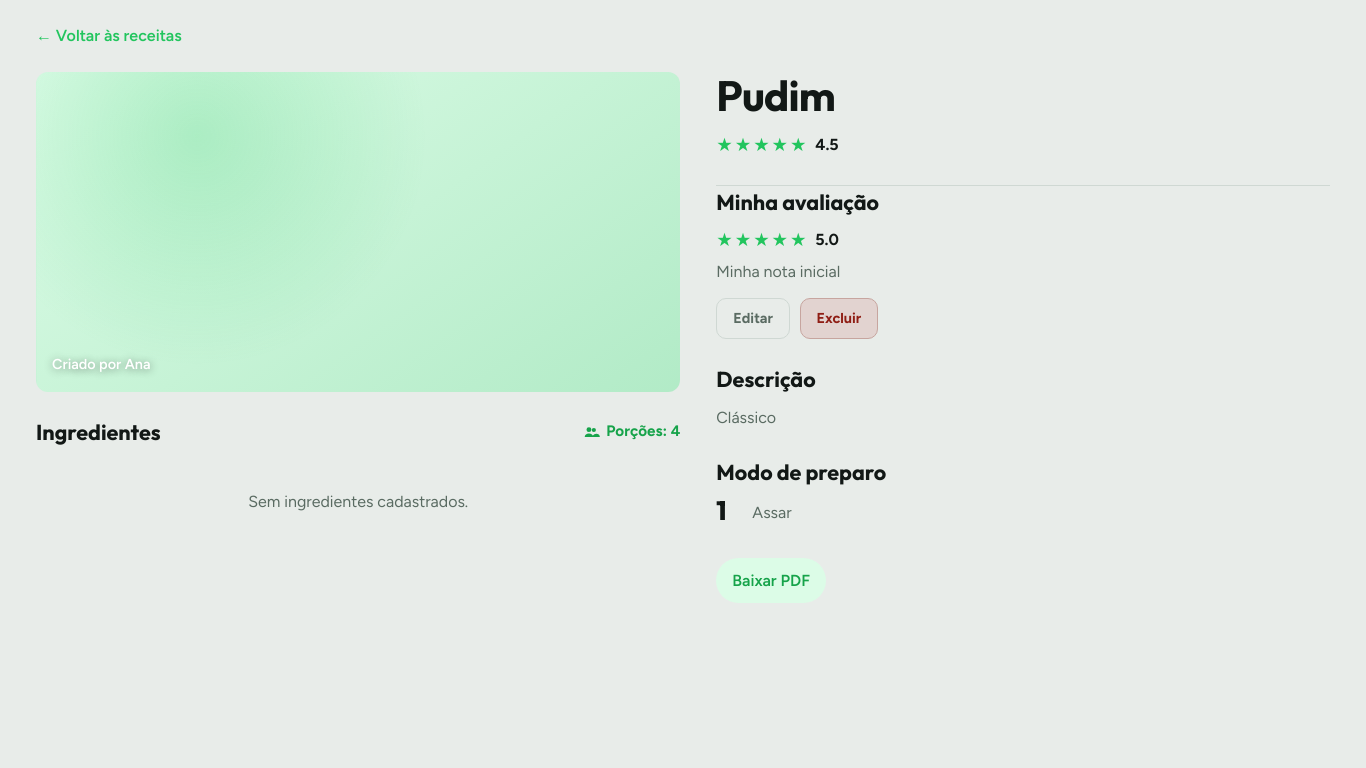
Test case: FN-UI-TASTER — avaliação no detalhe público › AC-03: TASTER edita a própria review via PUT (só rating/description)
Expected: the heading "Pudim" is shown, [716,69,835,122]
Expected: the heading "Minha avaliação" is shown, [716,188,879,216]
Click the button "Editar": (753, 318) [716,298,790,339]
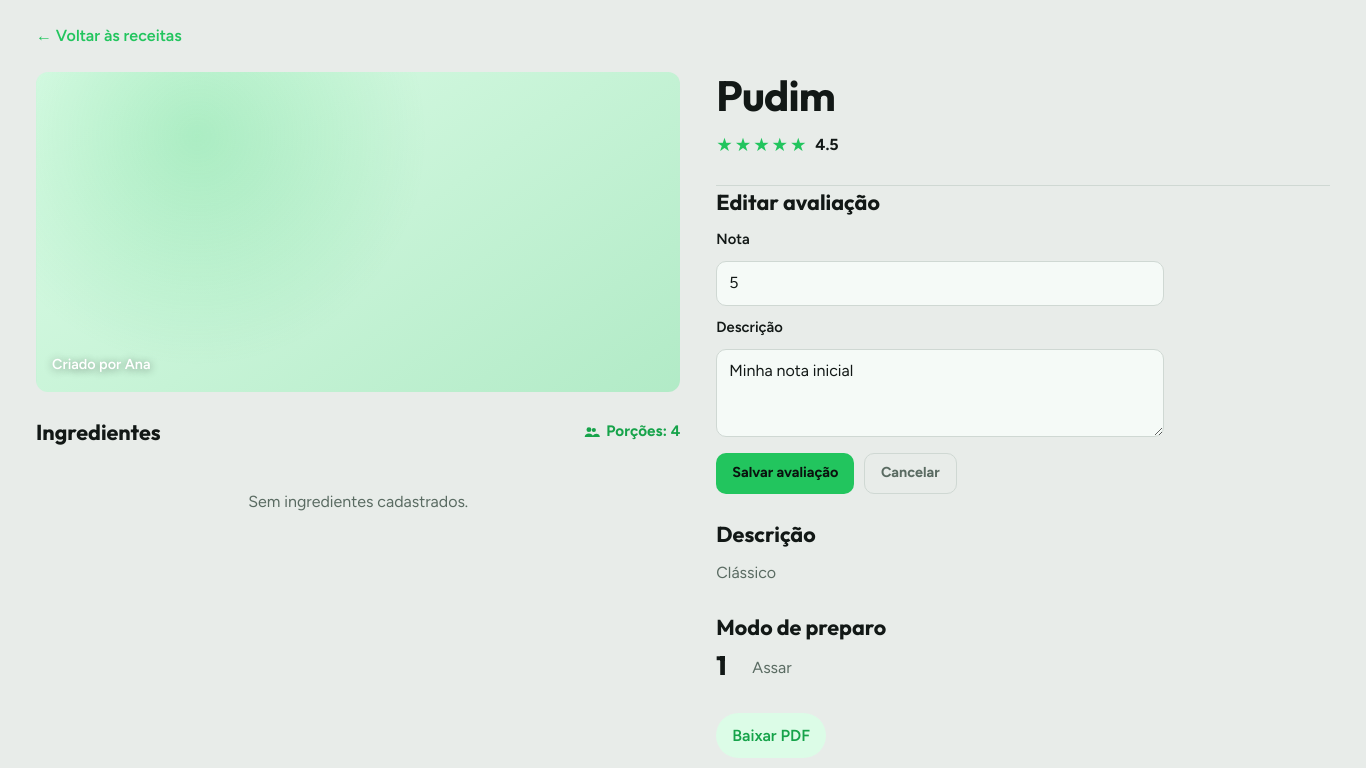
Replace the text in the number field labelled "Nota" with "3": (940, 283) [716,261,1164,306]
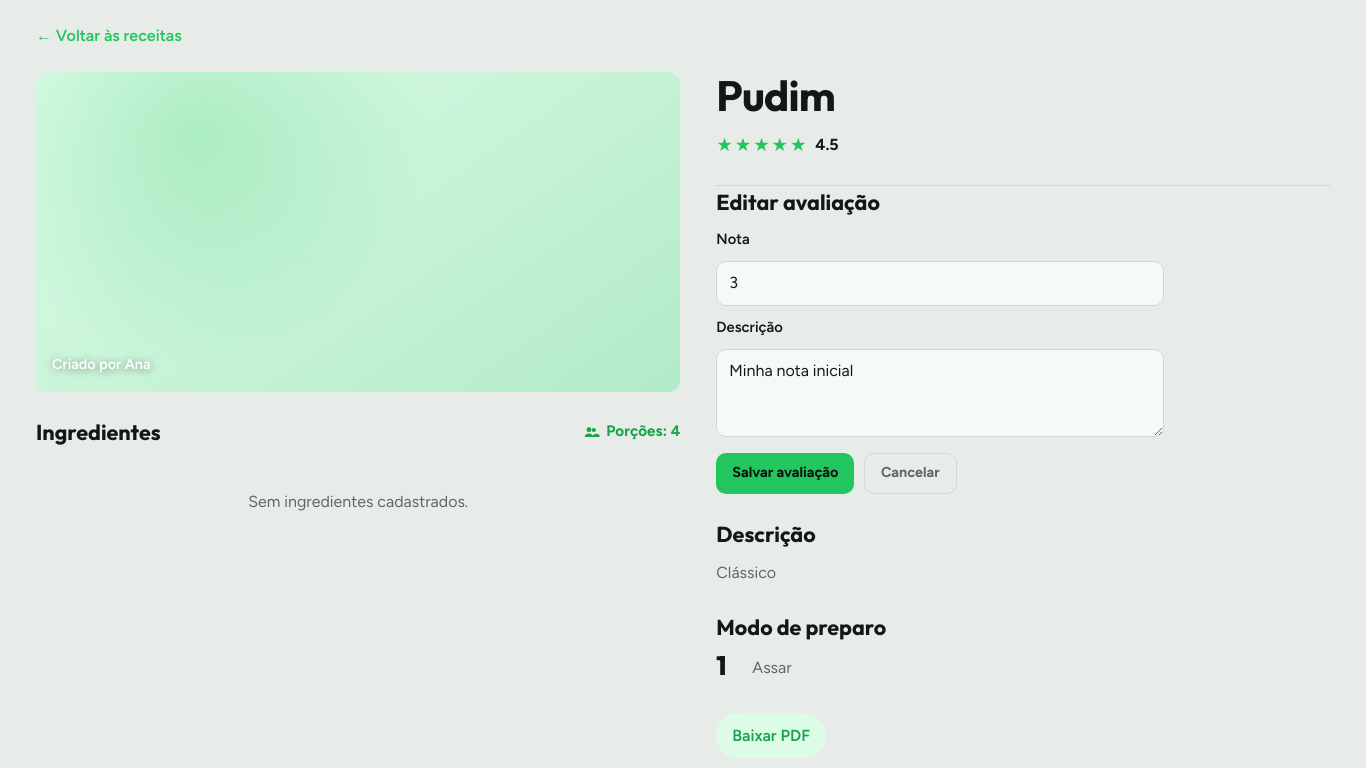
Replace the text in the text box labelled "Descrição" with "Ajustei a nota": (940, 393) [716,349,1164,437]
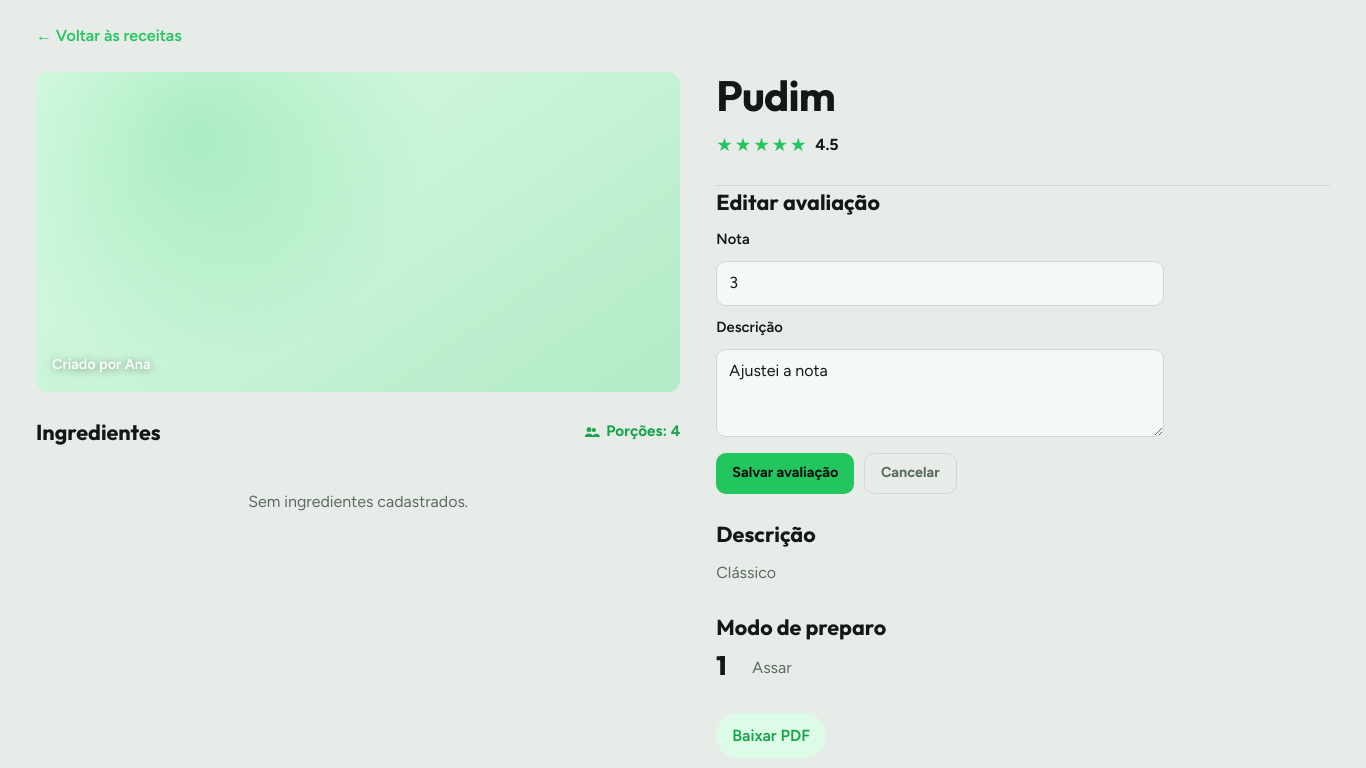
Click the button "Salvar avaliação": (785, 473) [716,453,854,494]
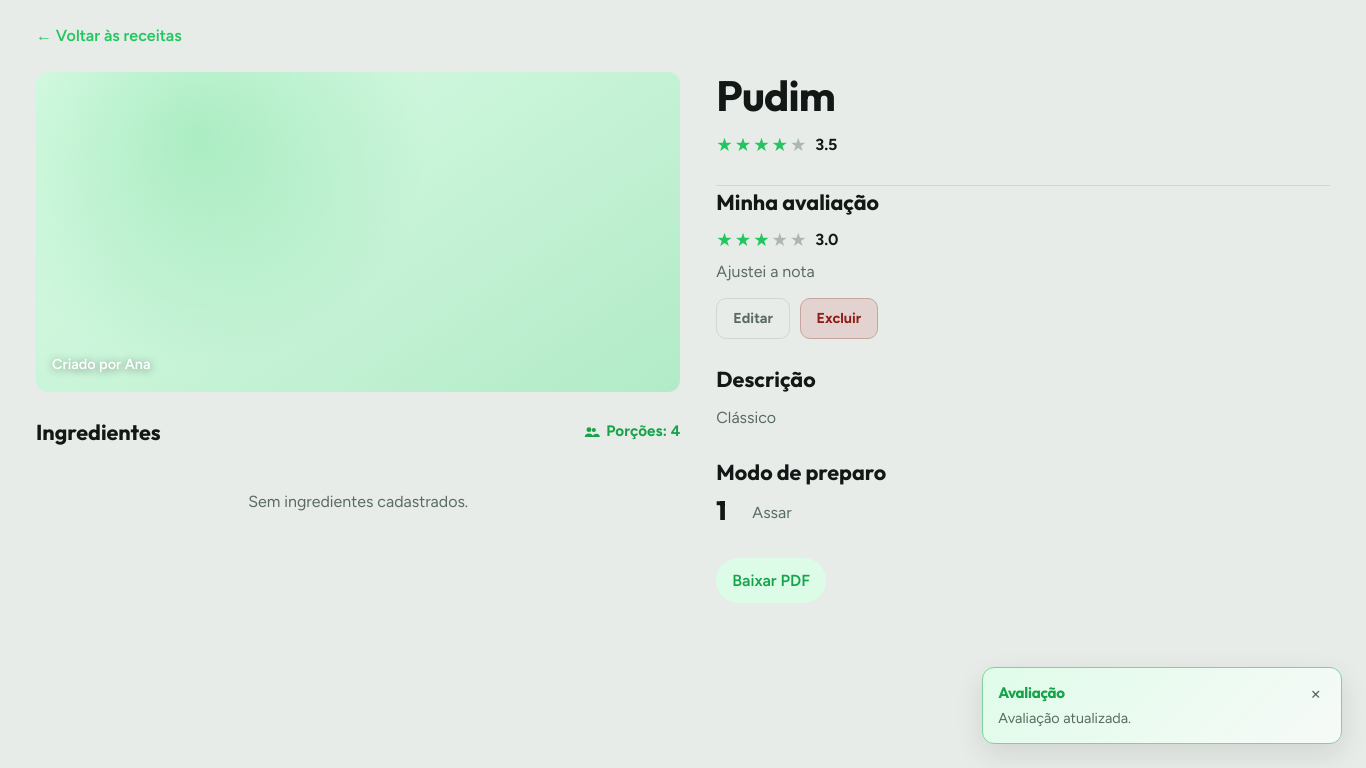
Now the text "Ajustei a nota" is shown, box [716,262,815,281]
